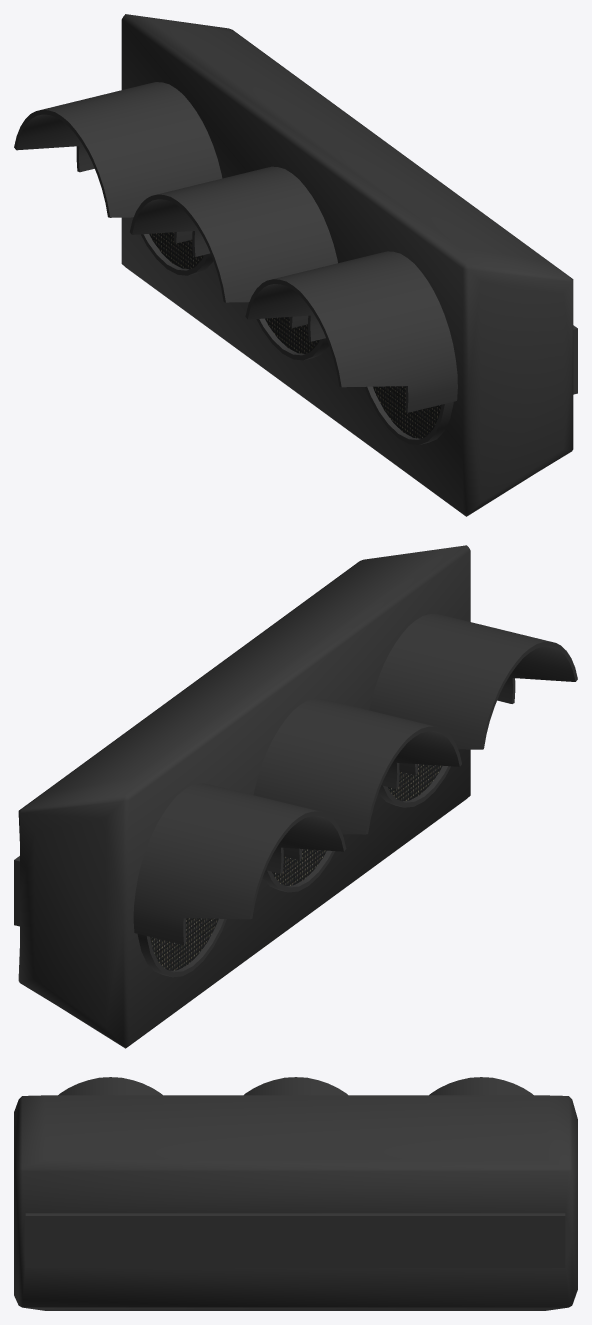
Rendered from 横向左转灯_YellowLight.fbx.
The picture shows the model from 3 angles, top to bottom: view 1: azimuth 30°, elevation 25°; view 2: azimuth 150°, elevation 25°; view 3: azimuth 270°, elevation 25°; orthographic projection. The views are drawn at different scales.
Visible parts, largest first — view 1: 横向左转灯_YellowLight; view 2: 横向左转灯_YellowLight; view 3: 横向左转灯_YellowLight.
Part boxes in pixels (x1,y1,x2,y2): 横向左转灯_YellowLight: [14, 14, 577, 516]; 横向左转灯_YellowLight: [14, 545, 577, 1048]; 横向左转灯_YellowLight: [14, 1077, 577, 1310].
Size of the model in its own units: 0.6 by 0.65 by 1.58.
3 materials, 2 textured.
